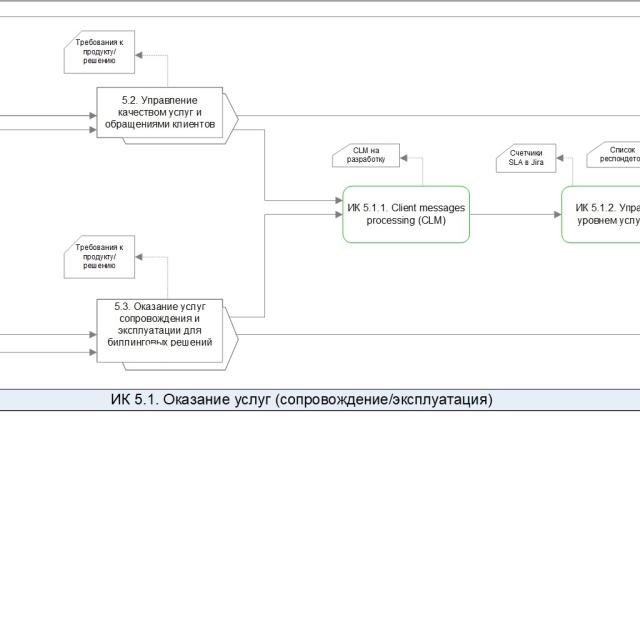arrow: (228, 208, 343, 318), (231, 128, 344, 205), (136, 250, 173, 299), (0, 124, 97, 139), (136, 49, 174, 86), (0, 110, 96, 122), (470, 209, 561, 220), (0, 347, 97, 357), (0, 330, 96, 339), (557, 152, 575, 187)
